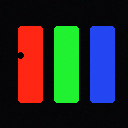0 point: (17, 52, 23, 58)
